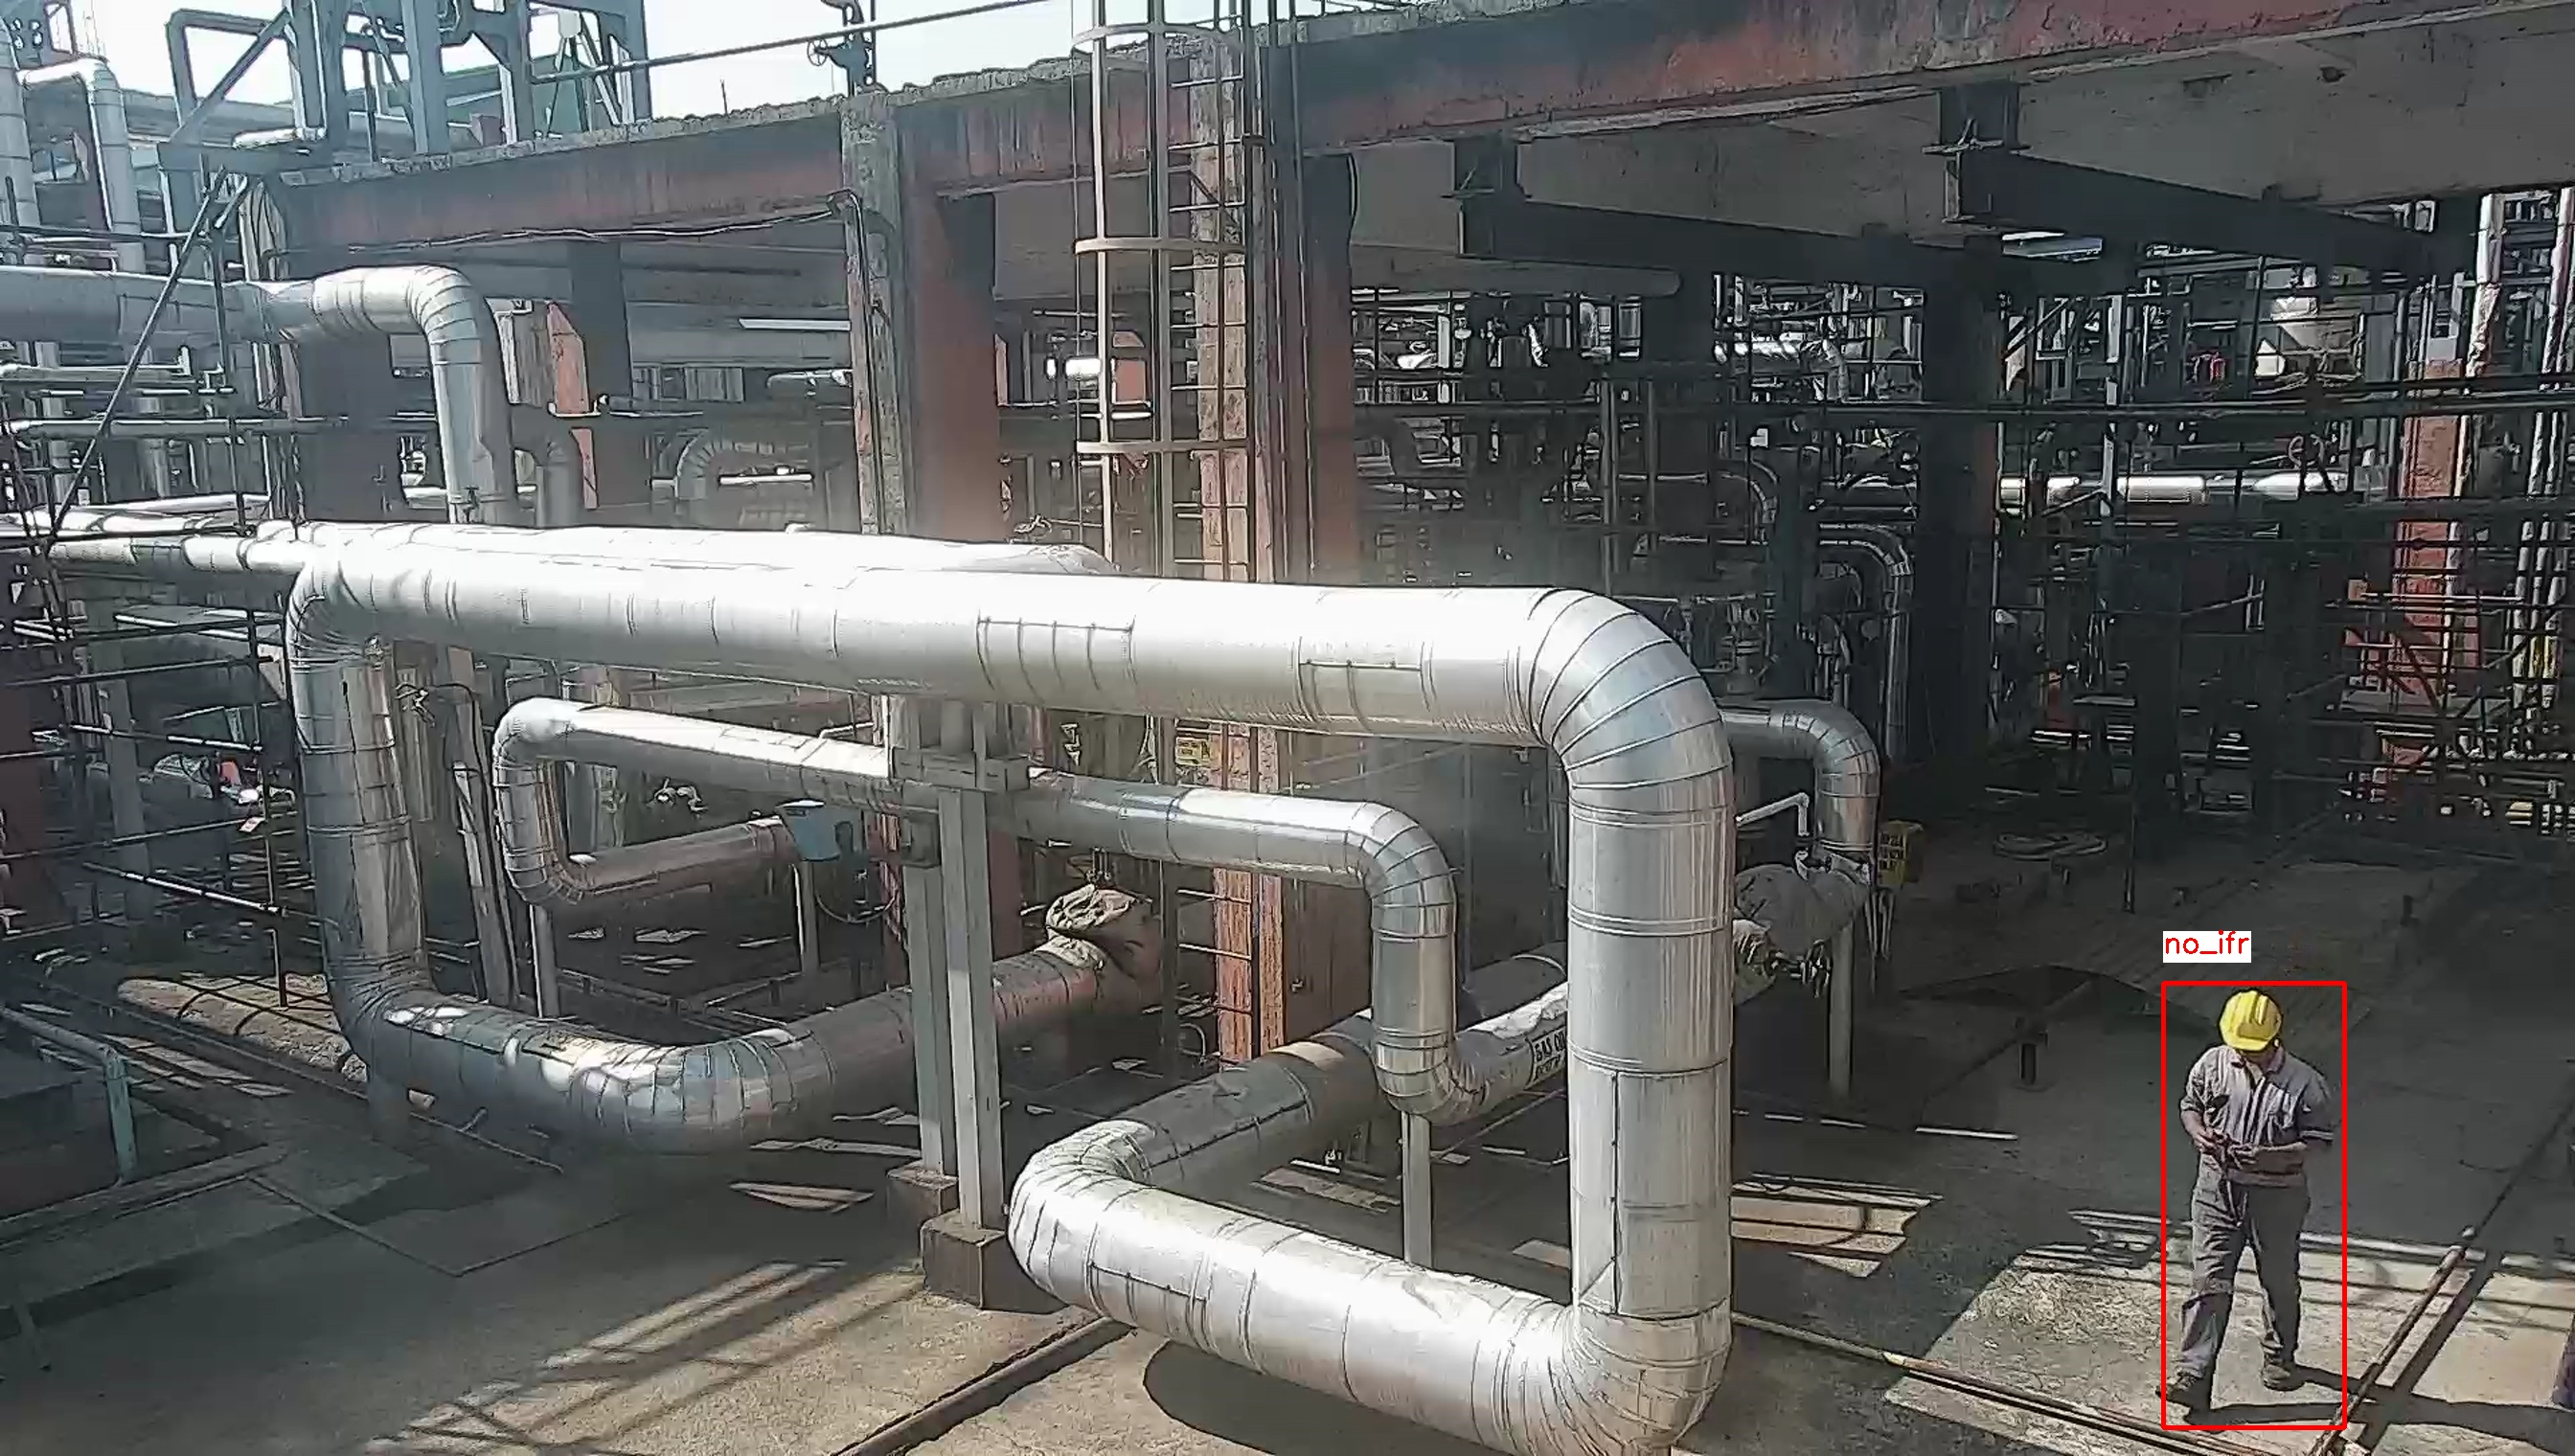Boots: (2255, 1345, 2303, 1398)
Helmets: (2218, 987, 2292, 1053)
IFR_Suit: (2186, 1049, 2340, 1352)
